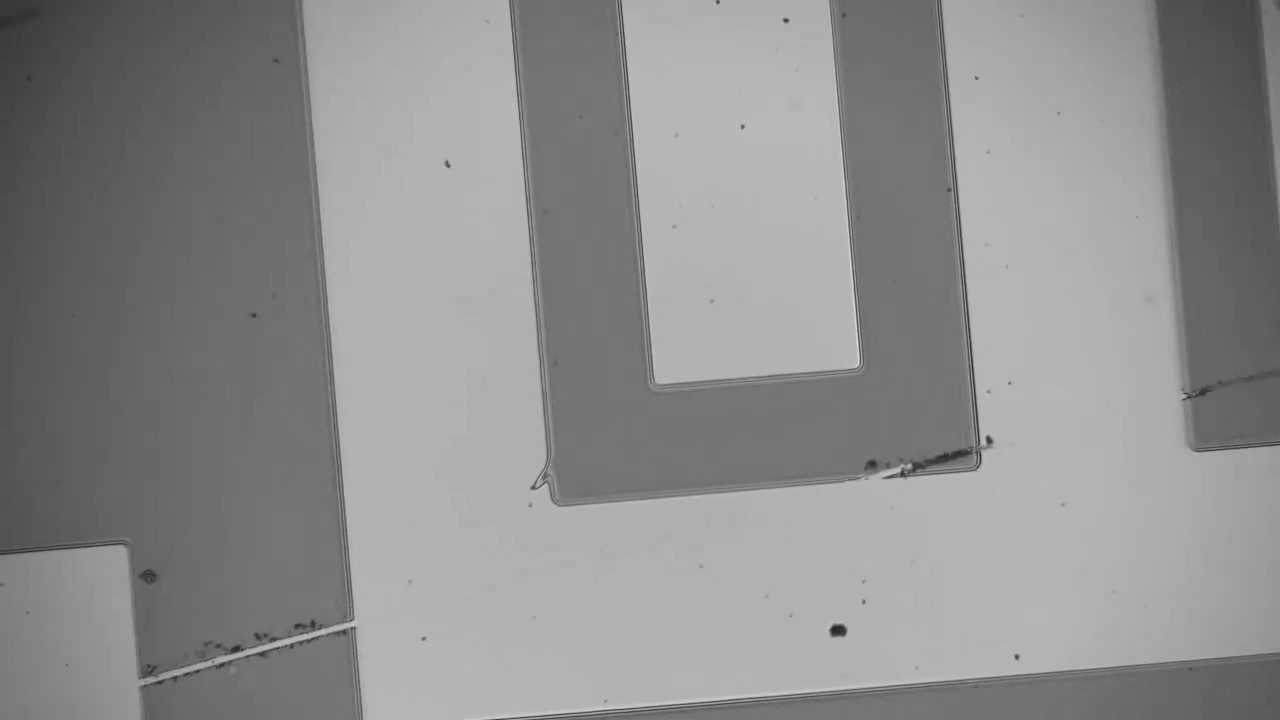scratch: (150, 620, 347, 682), (871, 444, 977, 477), (1192, 369, 1275, 390)
